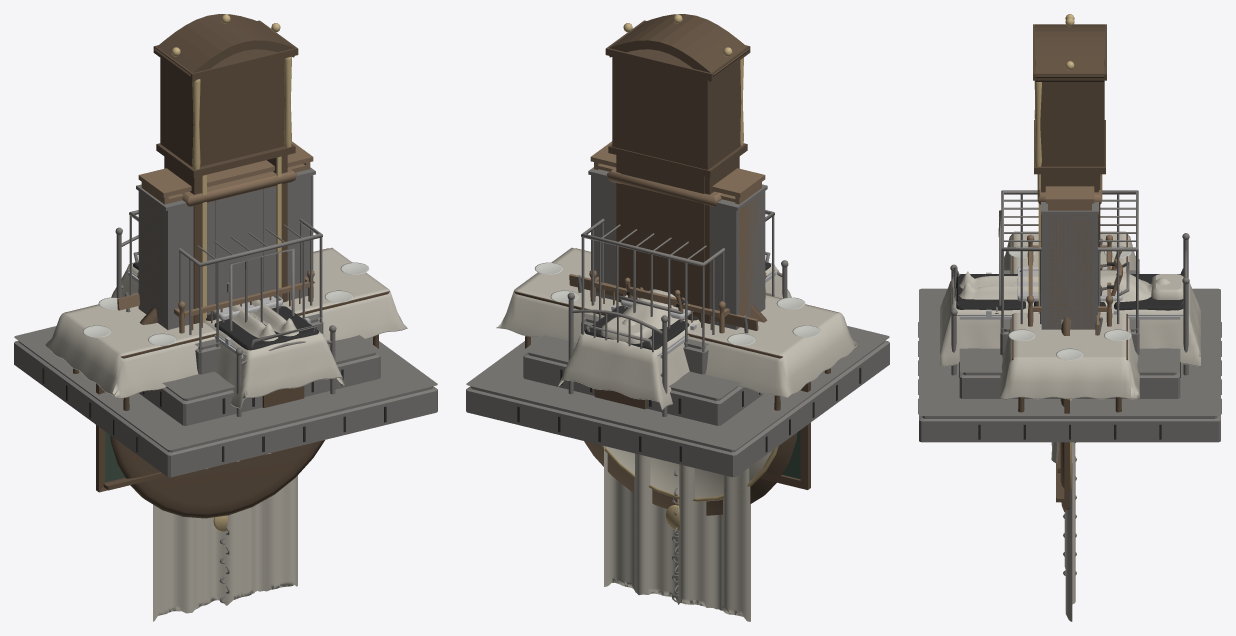
Rendered from room_props.glb.
The picture shows the model from 3 angles, left to right: view 1: azimuth 30°, elevation 25°; view 2: azimuth 150°, elevation 25°; view 3: azimuth 270°, elevation 25°; orthographic projection. The views are drawn at different scales.
Parts seen in each view (by area): view 1: altar, grandfather, long_table, lockers_body, hanging_sheet, clock_case, gurney_sheet, cage, shelf, optable, blackboard, cabinet (+3 smaller); view 2: grandfather, altar, hanging_sheet, long_table, lockers_body, gurney_sheet, cage, shelf, dial, clock_case, bed_frame, optable (+5 smaller); view 3: altar, grandfather, long_table, gurney_sheet, lockers_body, shelf, cage, optable, hanging_sheet, bed_frame, crib, blackboard (+2 smaller).
Part boxes in pixels (x1=…): altar: x1=14, y1=292, x2=437, y2=477; grandfather: x1=153, y1=14, x2=298, y2=323; long_table: x1=44, y1=247, x2=407, y2=410; lockers_body: x1=136, y1=167, x2=315, y2=329; hanging_sheet: x1=153, y1=475, x2=297, y2=621; clock_case: x1=110, y1=281, x2=324, y2=518; gurney_sheet: x1=111, y1=262, x2=345, y2=408; cage: x1=129, y1=210, x2=322, y2=352; shelf: x1=138, y1=141, x2=313, y2=327; optable: x1=127, y1=262, x2=324, y2=358; blackboard: x1=96, y1=383, x2=165, y2=492; cabinet: x1=181, y1=167, x2=297, y2=247; grandfather: x1=605, y1=14, x2=750, y2=323; altar: x1=466, y1=292, x2=889, y2=477; hanging_sheet: x1=604, y1=446, x2=750, y2=621; long_table: x1=496, y1=247, x2=859, y2=410; lockers_body: x1=588, y1=167, x2=767, y2=329; gurney_sheet: x1=558, y1=263, x2=791, y2=410; cage: x1=581, y1=210, x2=774, y2=352; shelf: x1=590, y1=141, x2=765, y2=327; dial: x1=601, y1=445, x2=778, y2=501; clock_case: x1=584, y1=305, x2=797, y2=515; bed_frame: x1=567, y1=260, x2=788, y2=416; optable: x1=579, y1=262, x2=776, y2=358; altar: x1=918, y1=270, x2=1221, y2=442; grandfather: x1=1033, y1=14, x2=1106, y2=314; long_table: x1=1000, y1=231, x2=1139, y2=412; gurney_sheet: x1=940, y1=270, x2=1200, y2=366; lockers_body: x1=1041, y1=202, x2=1098, y2=329; shelf: x1=1045, y1=186, x2=1094, y2=329; cage: x1=995, y1=190, x2=1138, y2=333; optable: x1=956, y1=272, x2=1183, y2=319; hanging_sheet: x1=1064, y1=442, x2=1075, y2=621; bed_frame: x1=950, y1=233, x2=1189, y2=375; crib: x1=1027, y1=234, x2=1112, y2=326; blackboard: x1=1056, y1=399, x2=1069, y2=508.
Size of the model in its own units: 2.8 by 5.43 by 2.62.
